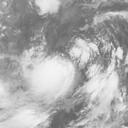cyclone: (20, 54, 77, 105)
